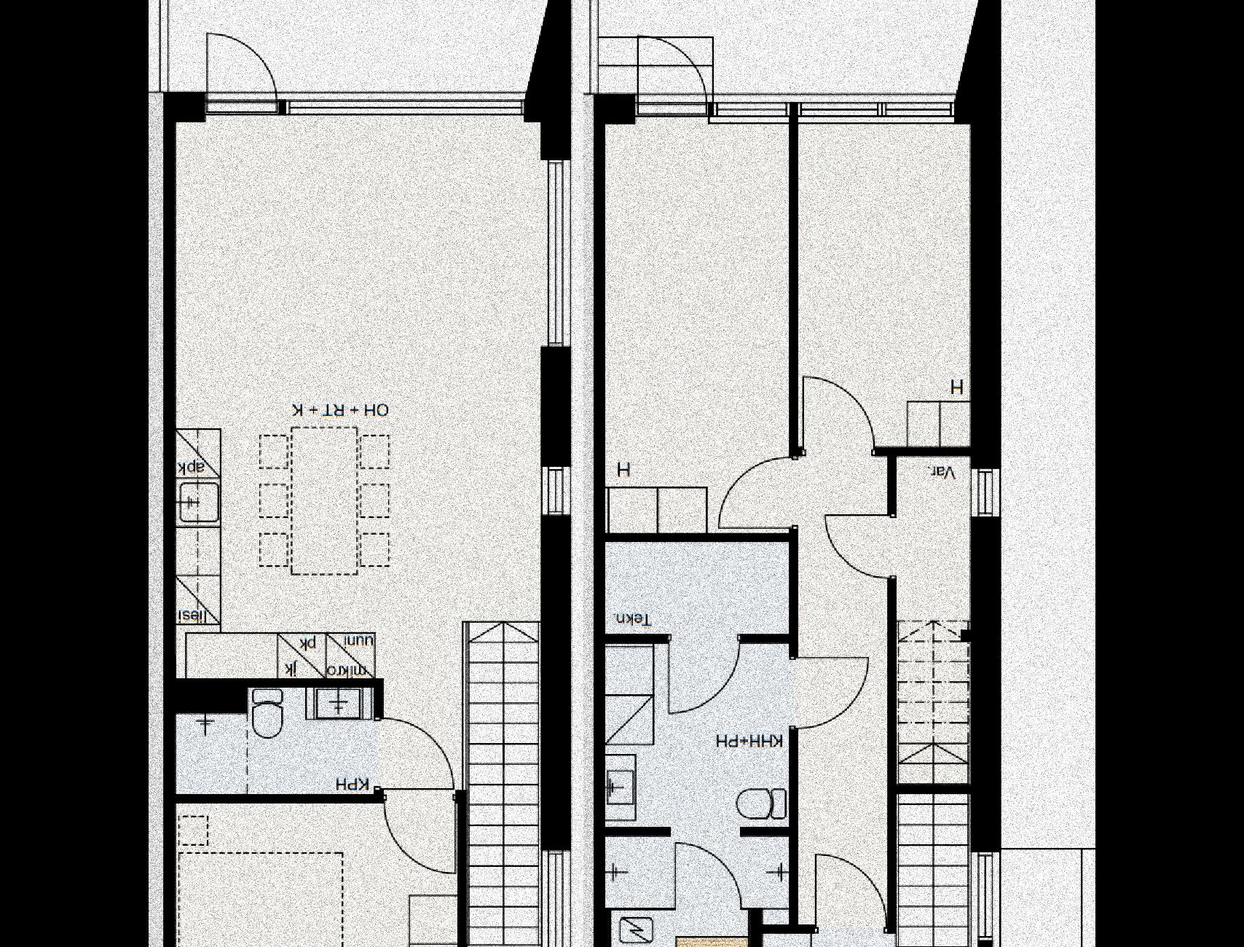door: (787, 648, 879, 734), (629, 34, 713, 127), (665, 630, 747, 720), (374, 791, 463, 872), (207, 22, 279, 113), (379, 711, 460, 790), (716, 452, 798, 530), (814, 846, 886, 930), (804, 364, 873, 449), (817, 511, 894, 583), (672, 843, 739, 911)
window: (1001, 846, 1082, 947), (288, 93, 521, 114), (542, 155, 567, 340), (803, 93, 952, 121), (798, 96, 948, 123), (542, 850, 570, 947), (976, 852, 999, 944), (540, 457, 570, 522), (712, 101, 792, 123), (714, 93, 784, 115), (969, 470, 1002, 515)
zone: (173, 113, 546, 677), (602, 121, 794, 533), (610, 533, 792, 947), (798, 118, 977, 447), (170, 798, 457, 947), (803, 448, 890, 930), (900, 452, 977, 947), (162, 0, 560, 89), (598, 0, 996, 89), (464, 626, 546, 947), (173, 685, 379, 795)
